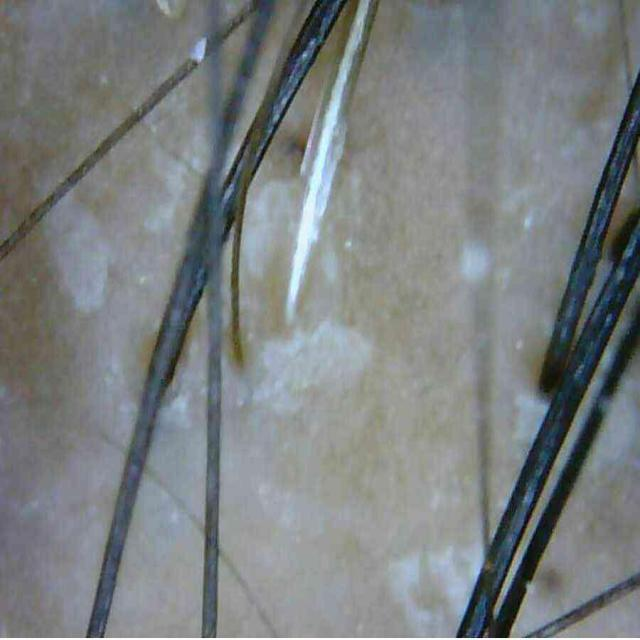d: (514, 393, 548, 446), (460, 241, 490, 283), (160, 395, 192, 428), (189, 34, 210, 63), (156, 0, 187, 19)
ds: (252, 322, 371, 416), (40, 188, 110, 312), (389, 545, 482, 636), (582, 377, 640, 478), (241, 180, 290, 283), (148, 146, 188, 197), (571, 0, 612, 33), (142, 201, 176, 233), (321, 244, 339, 283), (342, 170, 362, 191), (522, 208, 535, 235), (324, 220, 335, 235)
